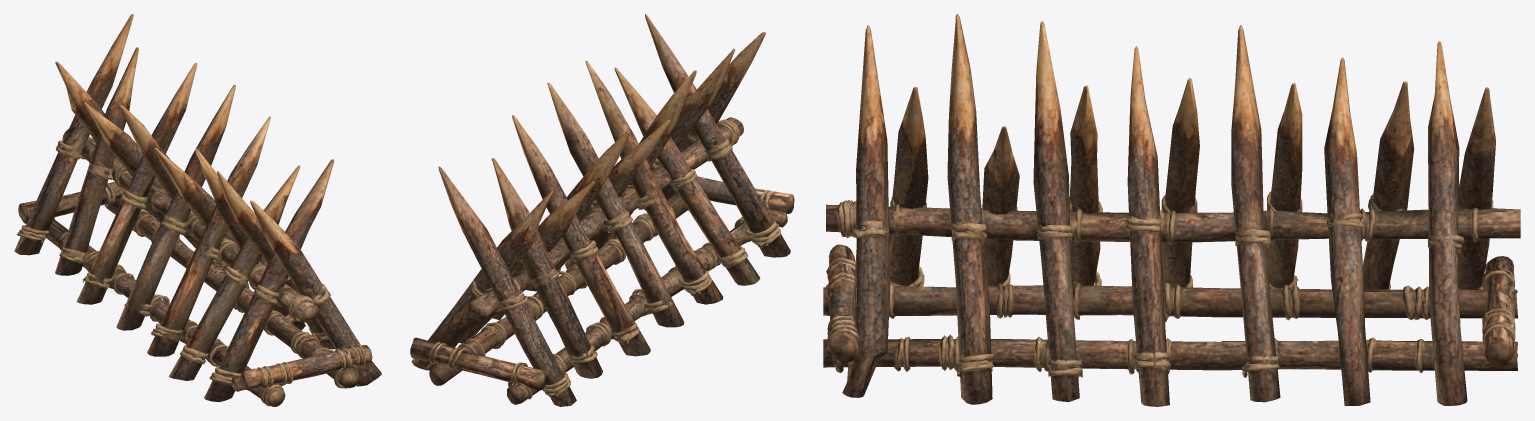
File: low_poly_wooden_defensive_barricade_3d_model.glb
3 renders of one model, left to right at view 1: azimuth 30°, elevation 25°; view 2: azimuth 150°, elevation 25°; view 3: azimuth 270°, elevation 25°, orthographic. The views are drawn at different scales.
Parts seen in each view (by area): view 1: Model_0; view 2: Model_0; view 3: Model_0.
Part boxes in pixels (x1,y1,x2,y2): Model_0: (14,14,381,406); Model_0: (410,14,794,406); Model_0: (823,14,1520,406).
Size of the model in its own units: 0.4168 by 0.4912 by 1.
1 material, 1 textured.
